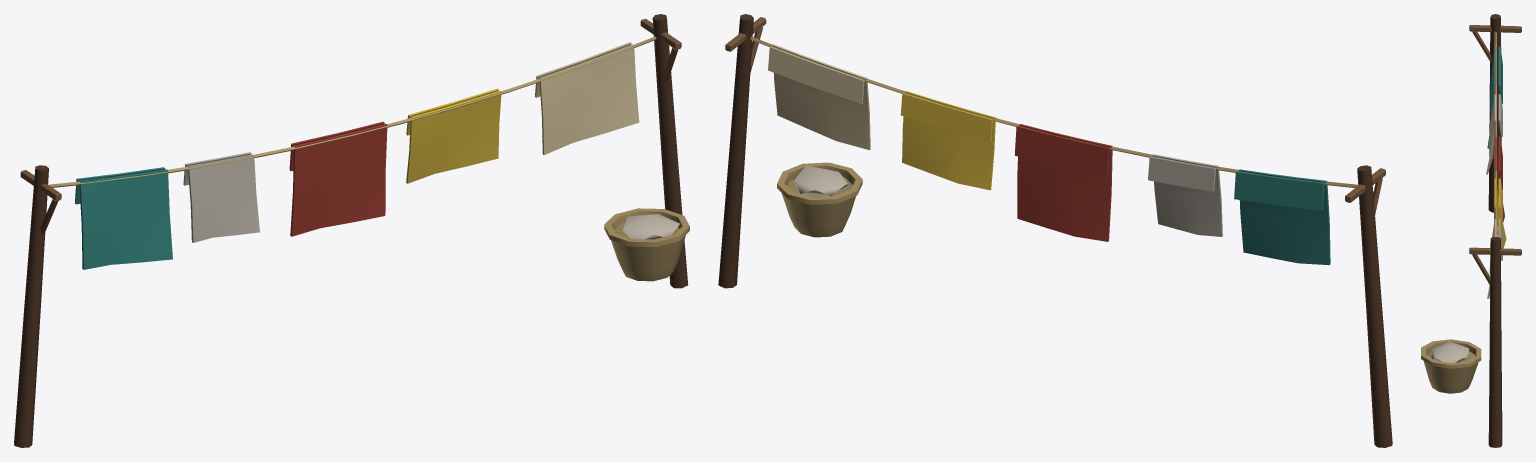
File: yard_clothesline.glb
3 views of the same model, side by side, from view 1: azimuth 30°, elevation 25°; view 2: azimuth 150°, elevation 25°; view 3: azimuth 270°, elevation 25° (orthographic). The views are drawn at different scales.
Parts seen in each view (by area): view 1: yard_clothesline; view 2: yard_clothesline; view 3: yard_clothesline.
Boxes of the visible parts, left/top/right/bottom form: yard_clothesline: left=14, top=14, right=689, bottom=447; yard_clothesline: left=718, top=14, right=1392, bottom=447; yard_clothesline: left=1421, top=14, right=1521, bottom=447.
Size of the model in its own units: 6.95 by 2.69 by 1.23.
